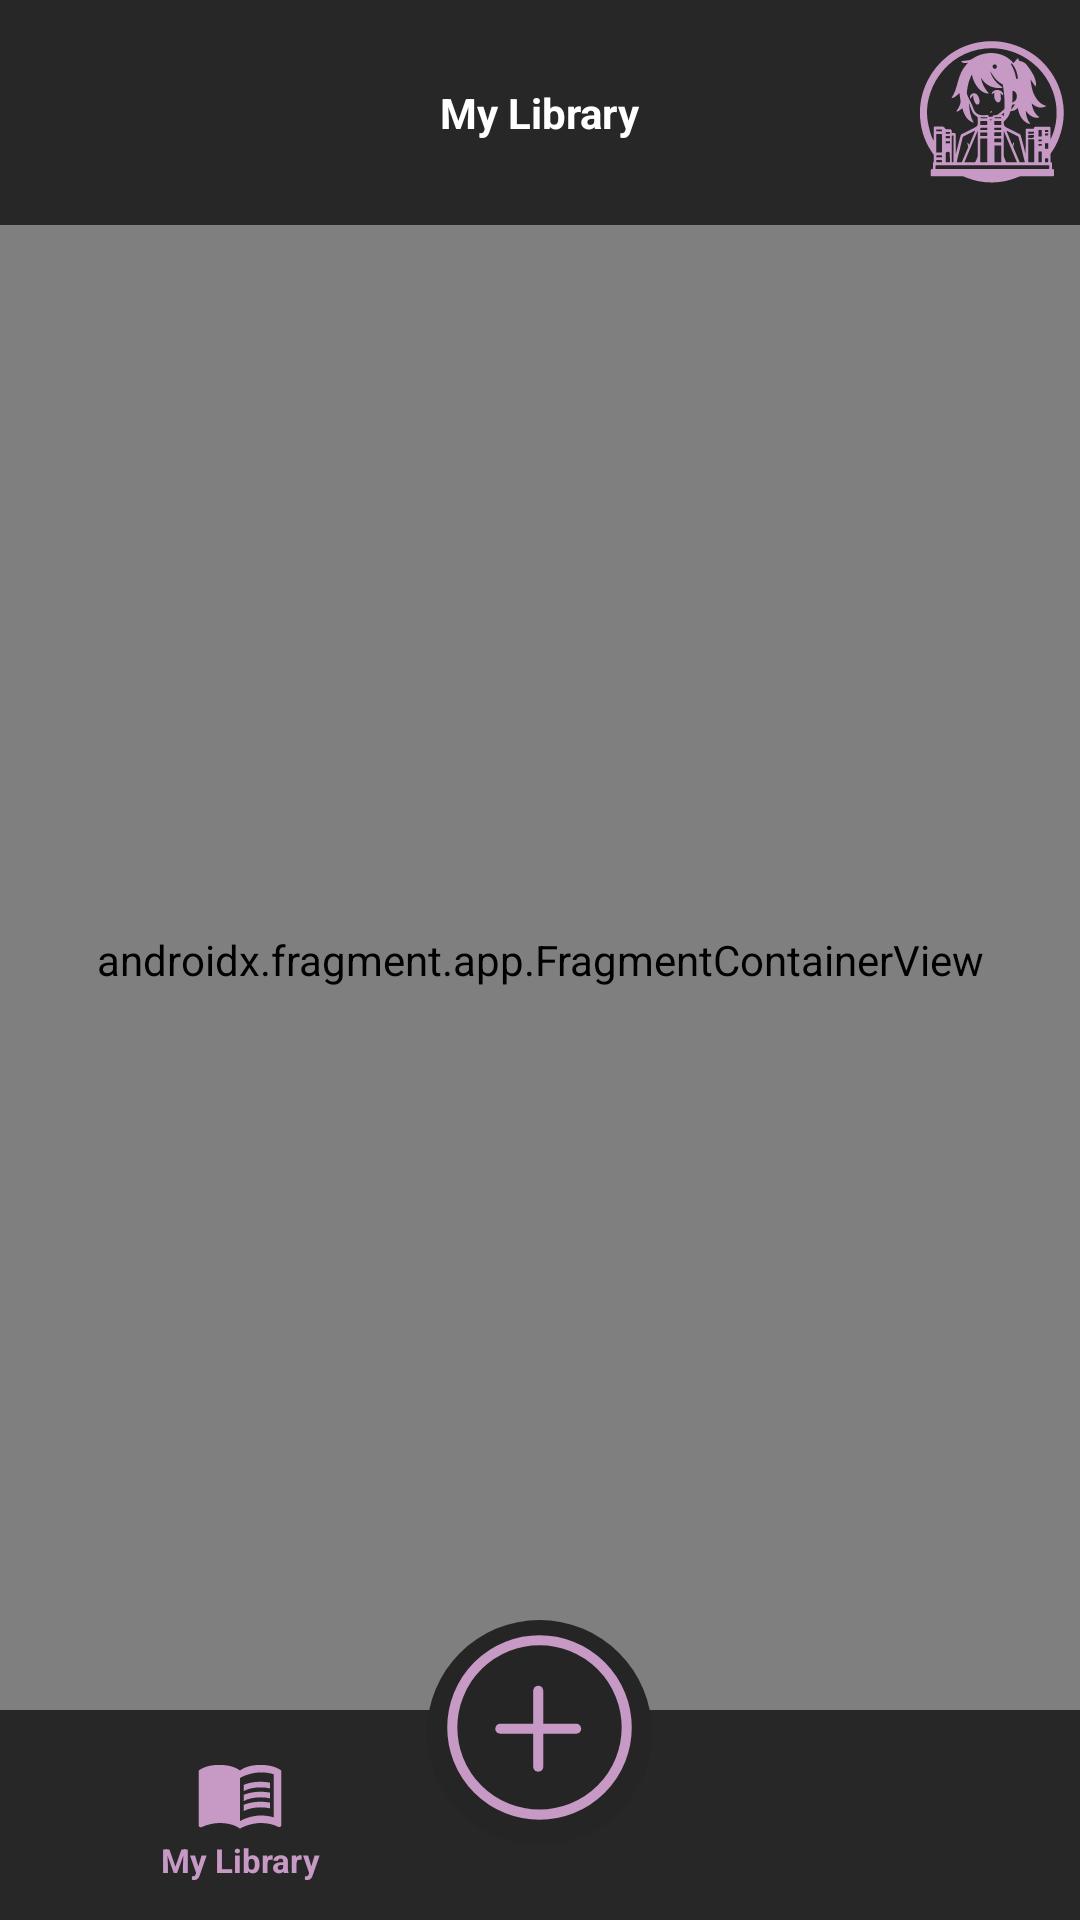

Screen size 1080 × 1920. Icon name, then its center in pixels as [x,y]:
Button to add an anime to your library: [539,1732]
